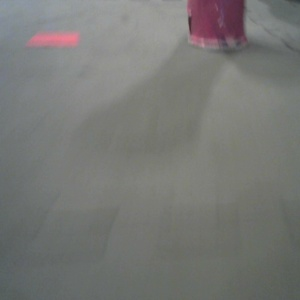middle: (1, 1, 83, 61)
